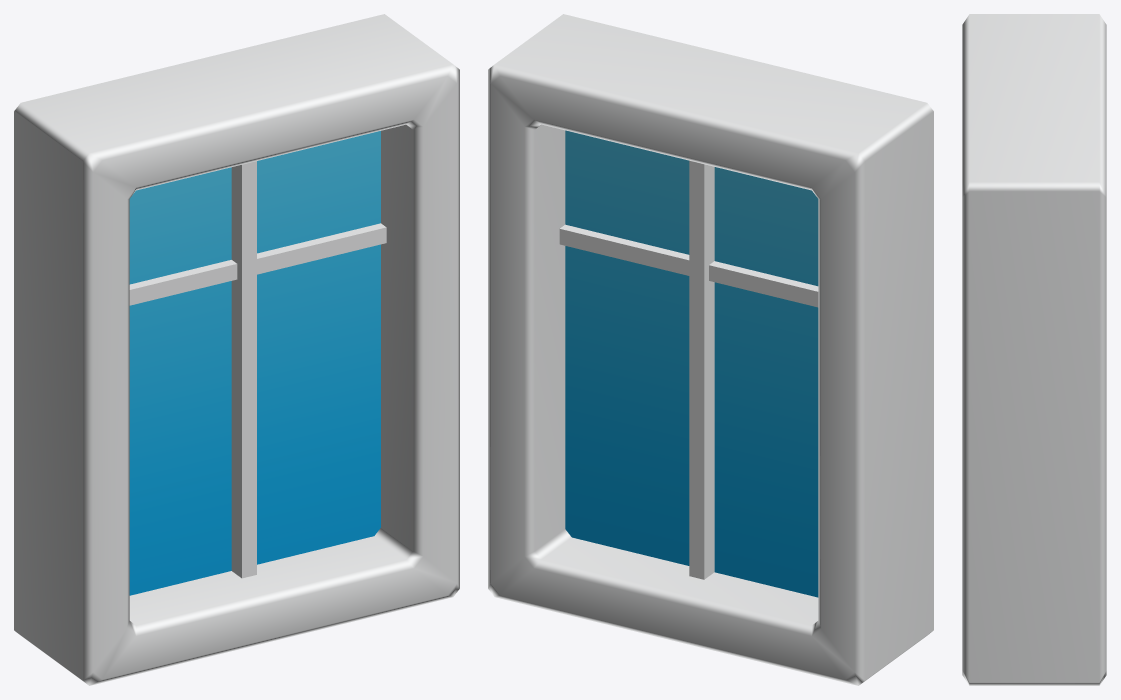
File: Window_White_12.glb
3 views of the same model, side by side, from view 1: azimuth 30°, elevation 25°; view 2: azimuth 150°, elevation 25°; view 3: azimuth 270°, elevation 25° (orthographic). The views are drawn at different scales.
Parts seen in each view (by area): view 1: Window_White_12; view 2: Window_White_12; view 3: Window_White_12.
Boxes of the visible parts, bbox=[...] form: Window_White_12: bbox=[14, 14, 459, 685]; Window_White_12: bbox=[488, 14, 933, 685]; Window_White_12: bbox=[962, 14, 1106, 685].
Size of the model in its own units: 1.14 by 1.54 by 0.4.
2 materials, 2 textured.
